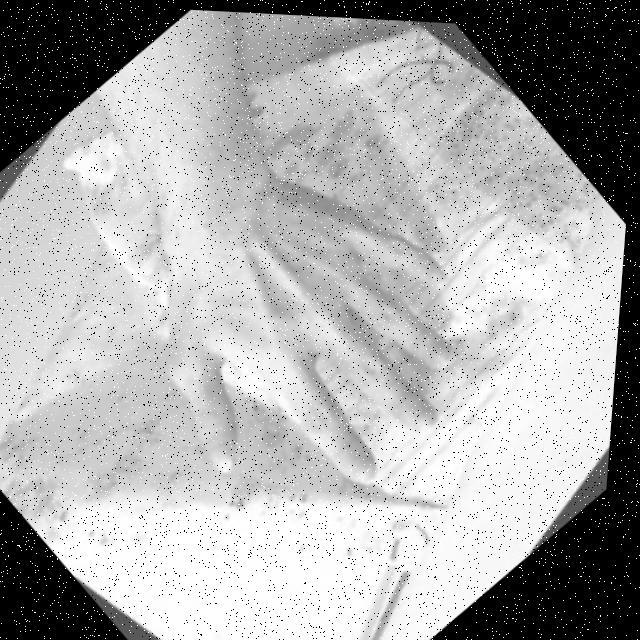no-gloves: (104, 136, 538, 562)
